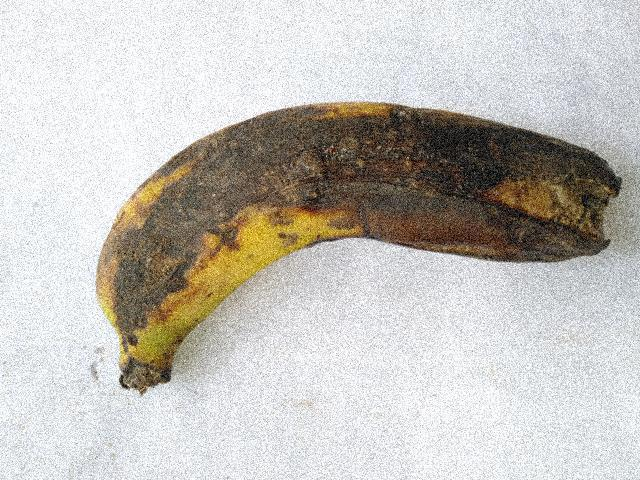rotten: (71, 93, 623, 294)
